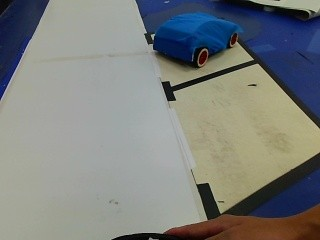car: (152, 13, 241, 68)
